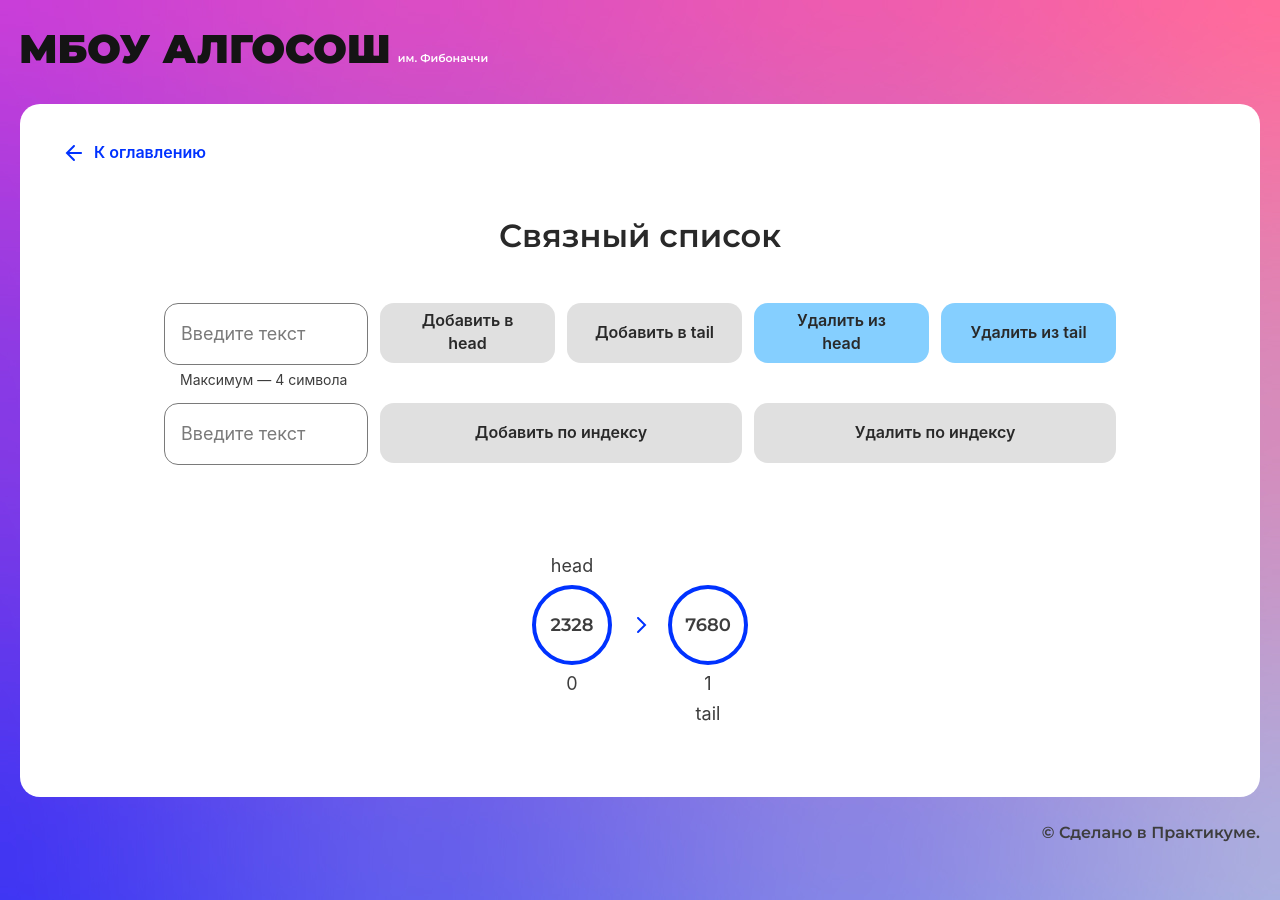
Scenario: Testing string reversal algorithm page › Correct animation of removing tail from the list
Expected: the element with test id "input-value" is enabled
Type "moon" into the field with test id "input-value" at (266, 334), box [164, 303, 368, 365]
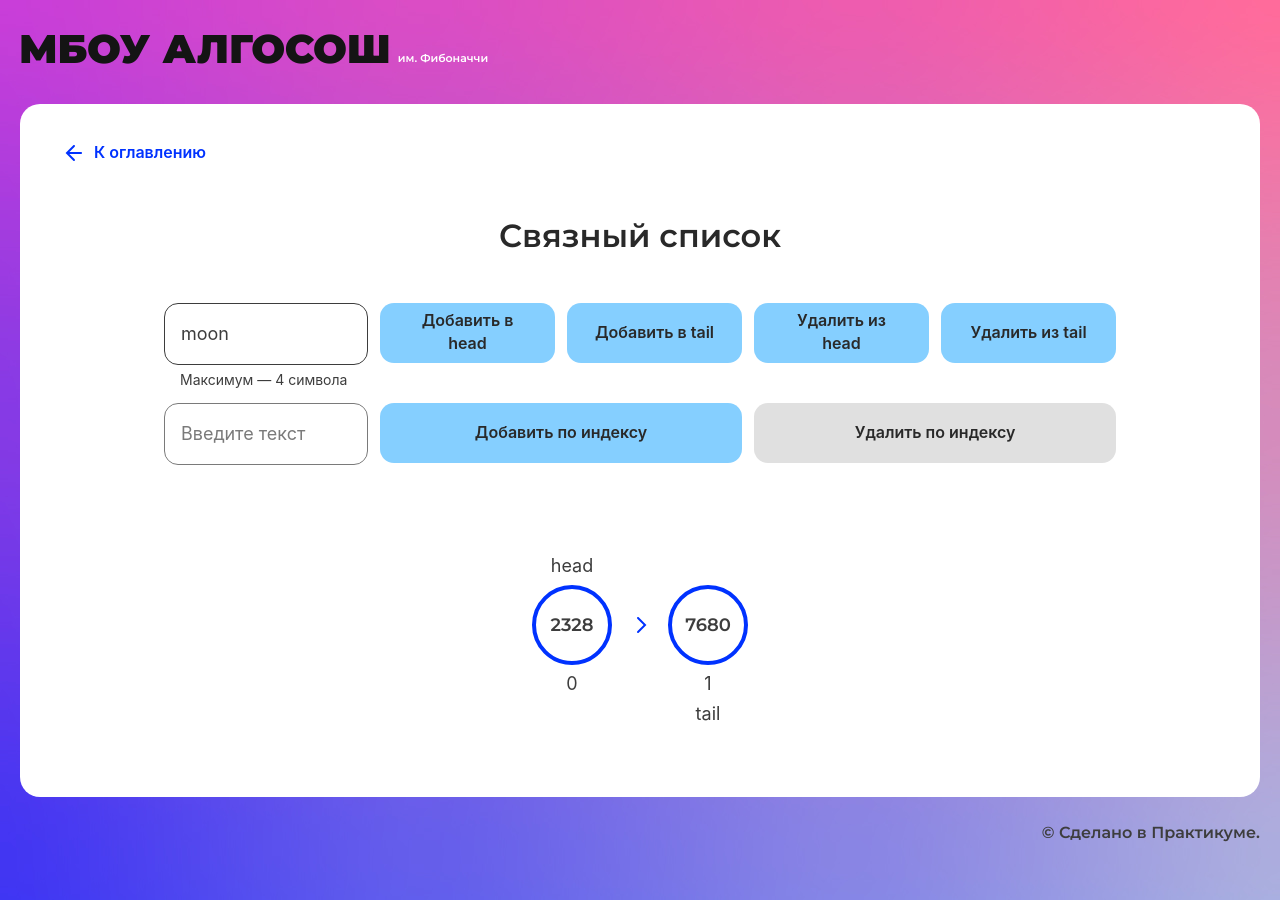
Expected: the element with test id "button-add-tail" is enabled
Click the button with test id "button-add-tail" at (655, 333), box [567, 303, 742, 363]
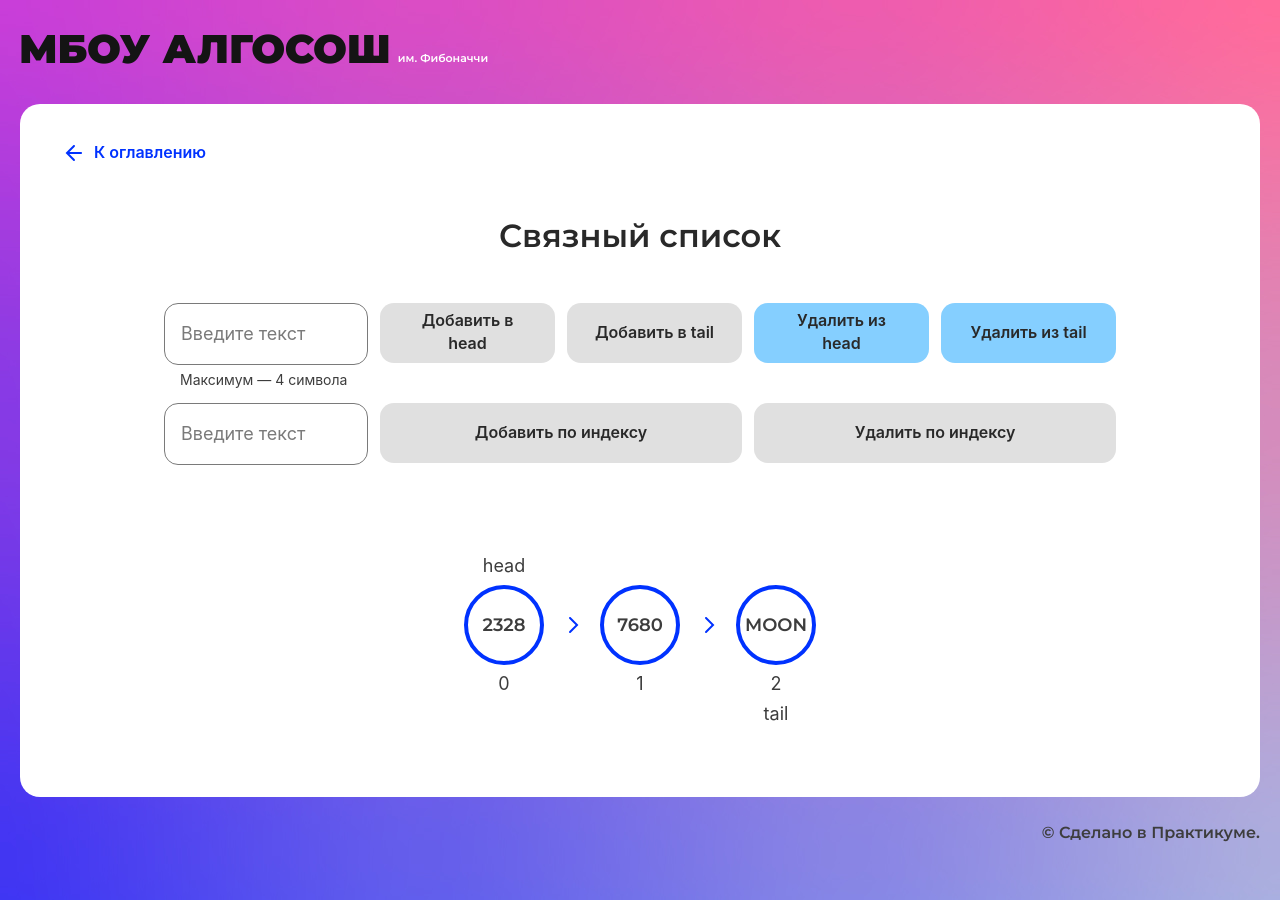
Expected: the element with test id "input-value" is enabled
Type "sun" into the field with test id "input-value" at (266, 334), box [164, 303, 368, 365]
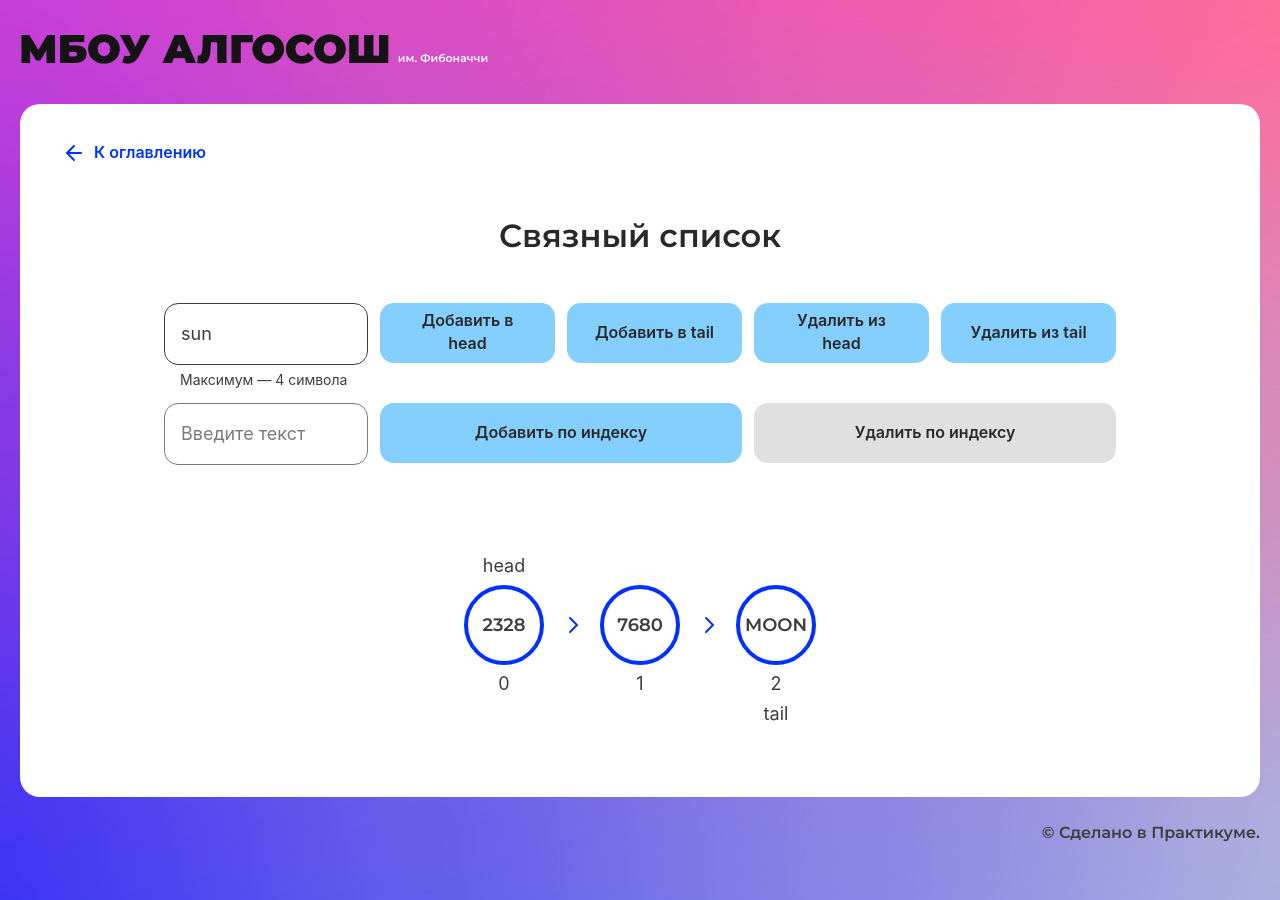
Expected: the element with test id "button-add-tail" is enabled
Click the button with test id "button-add-tail" at (655, 333), box [567, 303, 742, 363]
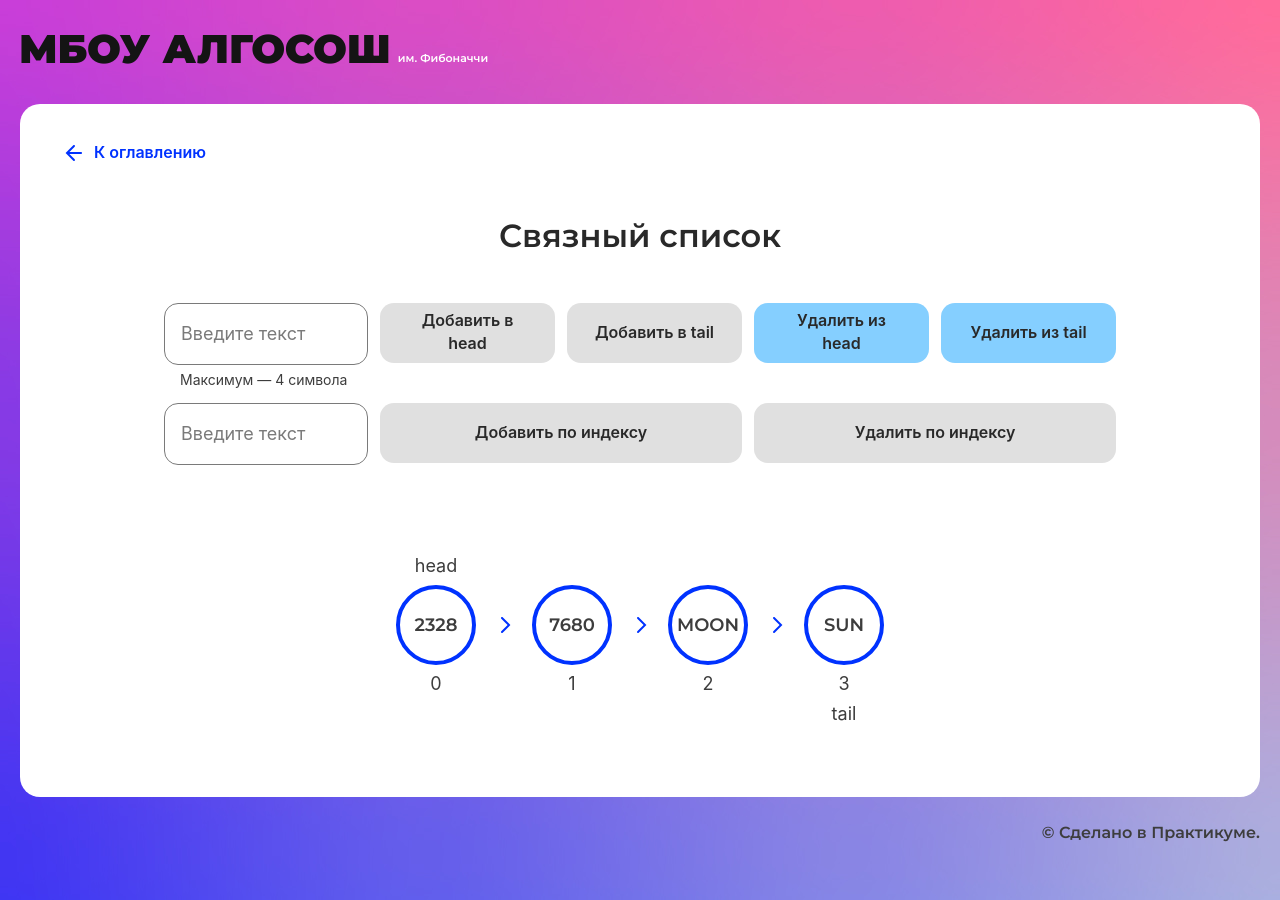
Expected: the element with test id "button-delete-tail" is enabled
Click the button with test id "button-delete-tail" at (1029, 333), box [941, 303, 1116, 363]
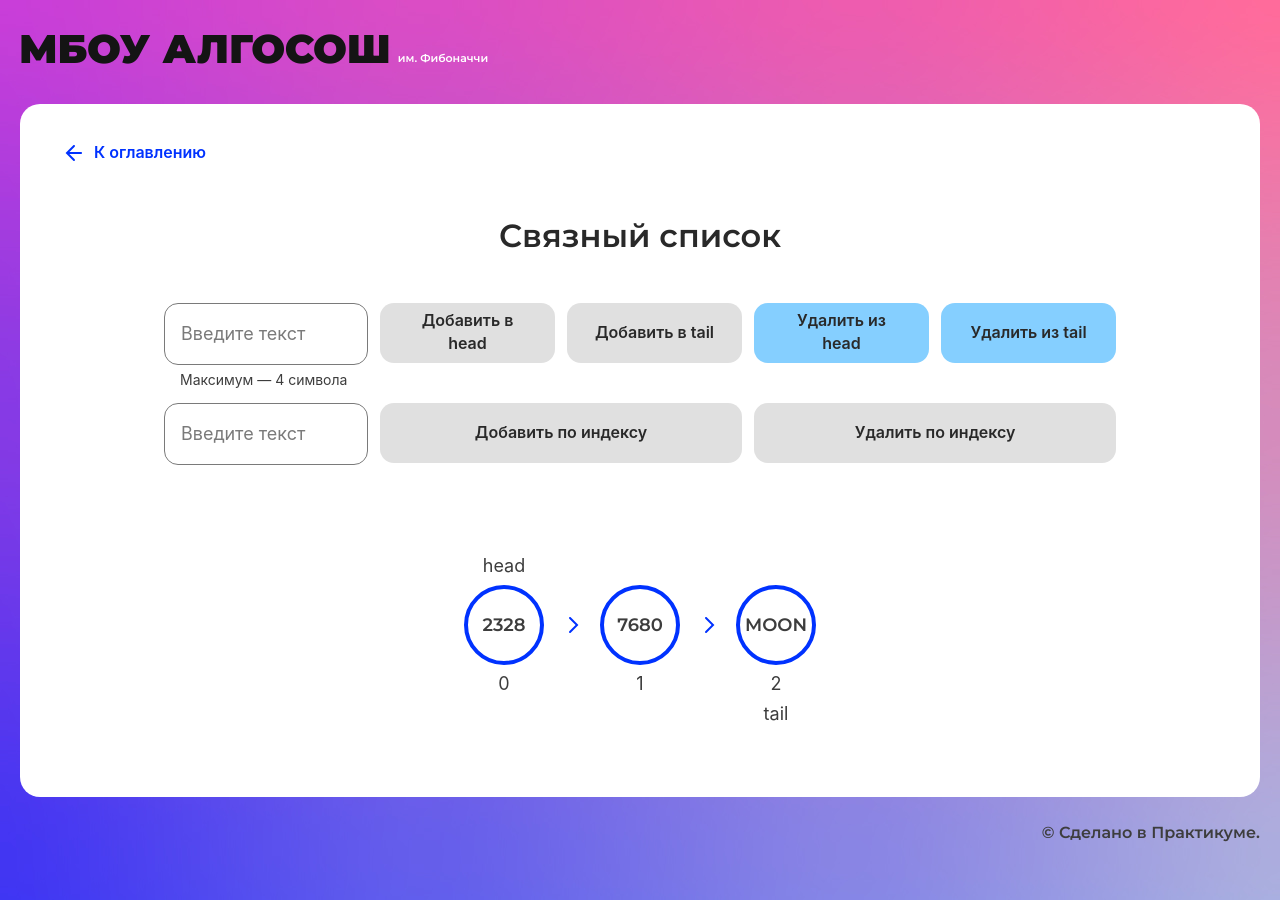
Expected: the text "tail" is shown, [764, 702, 788, 724]
Now the element showing "moon" is shown, box [736, 584, 816, 664]
Now the text "sun" is gone
